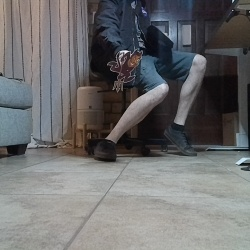sparky: (105, 47, 143, 94)
